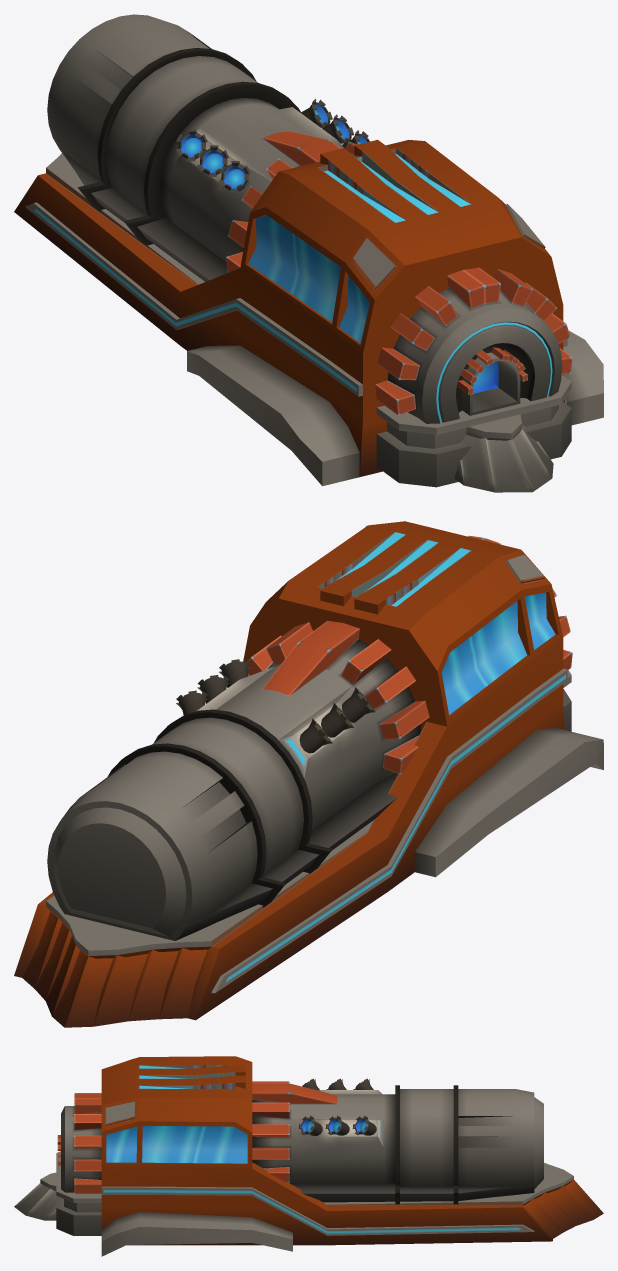
Rendered from Locomotive.fbx.
The picture shows the model from 3 angles, top to bottom: view 1: azimuth 30°, elevation 25°; view 2: azimuth 150°, elevation 25°; view 3: azimuth 270°, elevation 25°; orthographic projection. The views are drawn at different scales.
Visible parts, largest first — view 1: Locomotive, Smoke Chutes; view 2: Locomotive, Smoke Chutes; view 3: Locomotive, Smoke Chutes.
Part boxes in pixels (<box>): Locomotive: <box>14,14,603,492</box>; Smoke Chutes: <box>176,98,369,192</box>; Locomotive: <box>14,521,603,1027</box>; Smoke Chutes: <box>176,659,375,753</box>; Locomotive: <box>14,1056,603,1256</box>; Smoke Chutes: <box>298,1078,376,1135</box>.
Bounding box in the file's own units: 588 × 410 × 1569.
